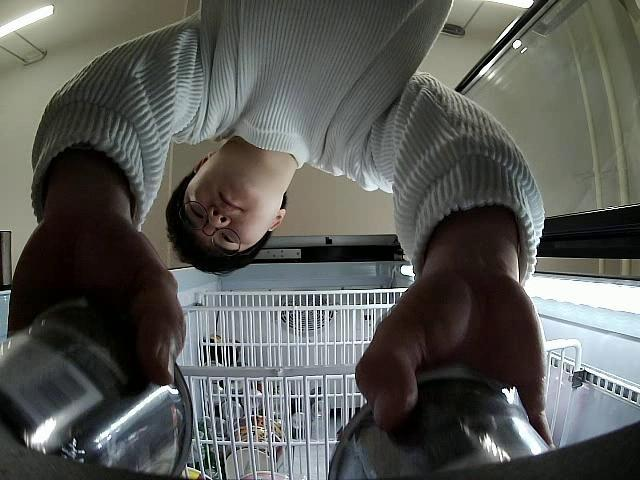08_buldak_S: (0, 302, 198, 480), (327, 365, 548, 480)
